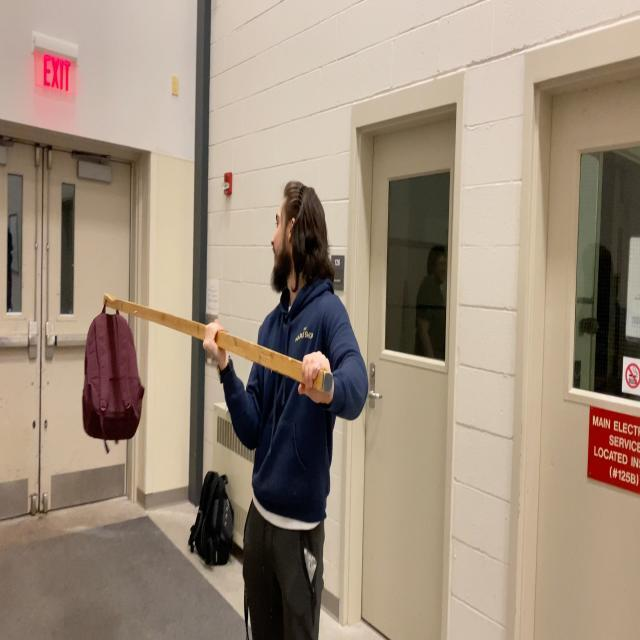Backpacks: (82, 310, 145, 443), (188, 467, 236, 575)
